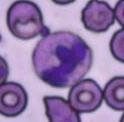N: (32, 32, 92, 87)
